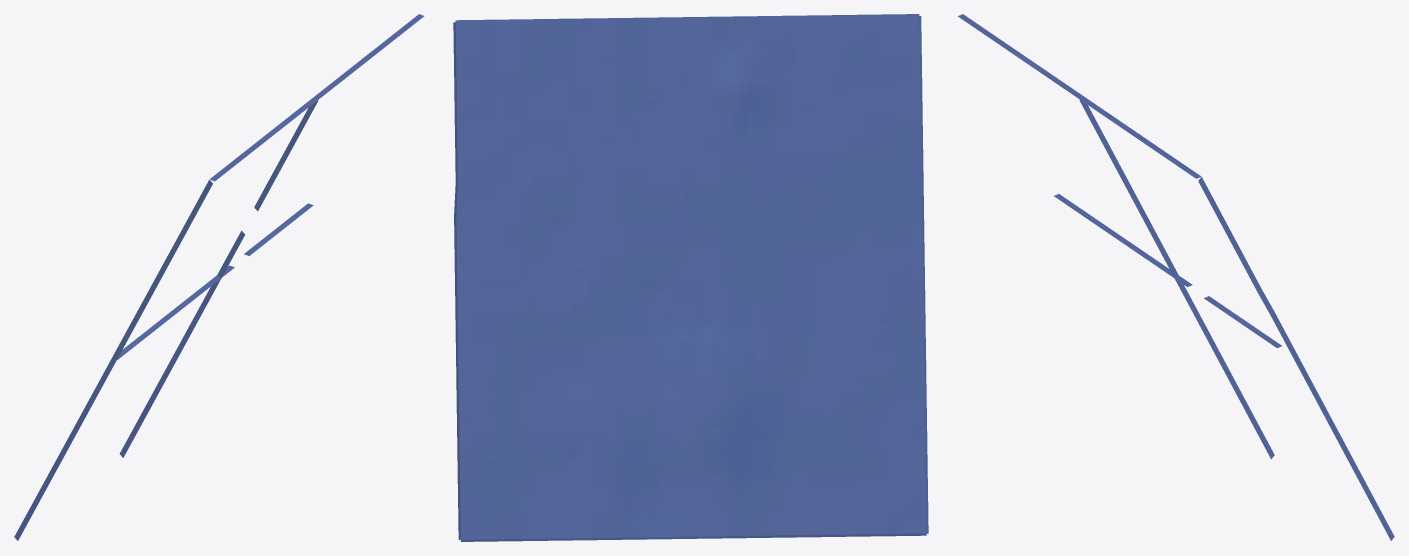
The picture shows the model from 3 angles, left to right: view 1: azimuth 30°, elevation 25°; view 2: azimuth 150°, elevation 25°; view 3: azimuth 270°, elevation 25°; orthographic projection. The views are drawn at different scales.
Size of the model in its own units: 39436 by 35420 by 33928.
1 material, 1 textured.
